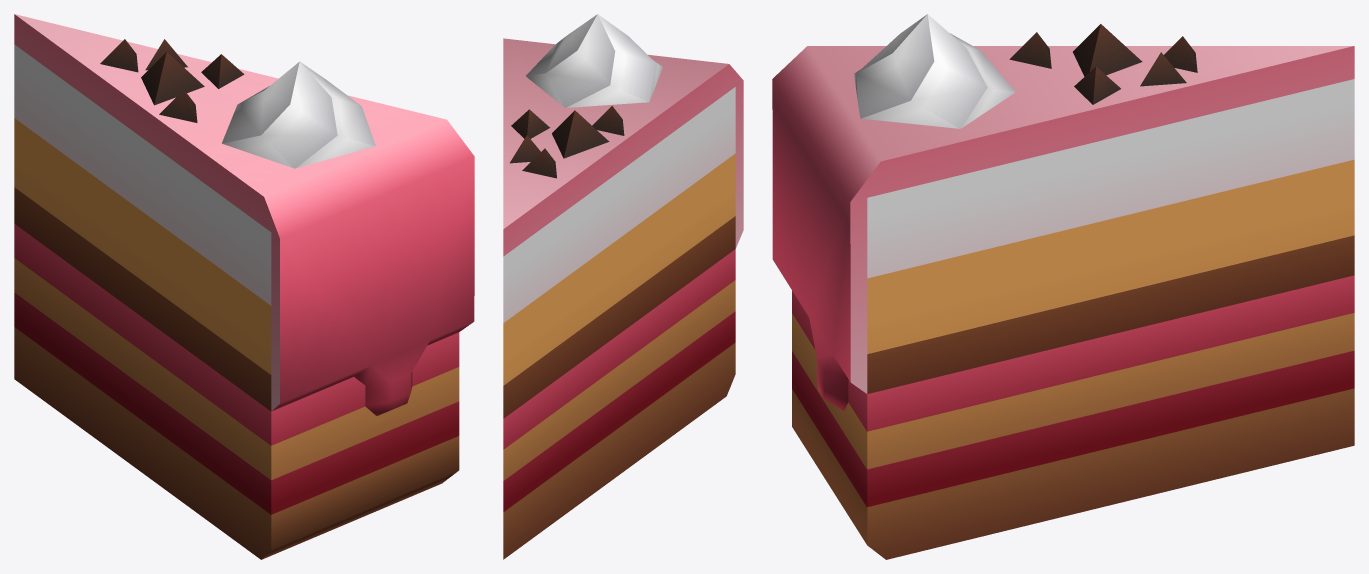
Rendered from m_Cake03_Slice02.fbx.
The picture shows the model from 3 angles, left to right: view 1: azimuth 30°, elevation 25°; view 2: azimuth 150°, elevation 25°; view 3: azimuth 270°, elevation 25°; orthographic projection. The views are drawn at different scales.
Parts seen in each view (by area): view 1: m_Cake03_Slice02; view 2: m_Cake03_Slice02; view 3: m_Cake03_Slice02.
Part boxes in pixels (bbox=[...]): m_Cake03_Slice02: bbox=[14, 14, 474, 559]; m_Cake03_Slice02: bbox=[503, 14, 743, 559]; m_Cake03_Slice02: bbox=[772, 14, 1354, 559].
Bounding box in the file's own units: 7.24 × 13.18 × 14.48.
